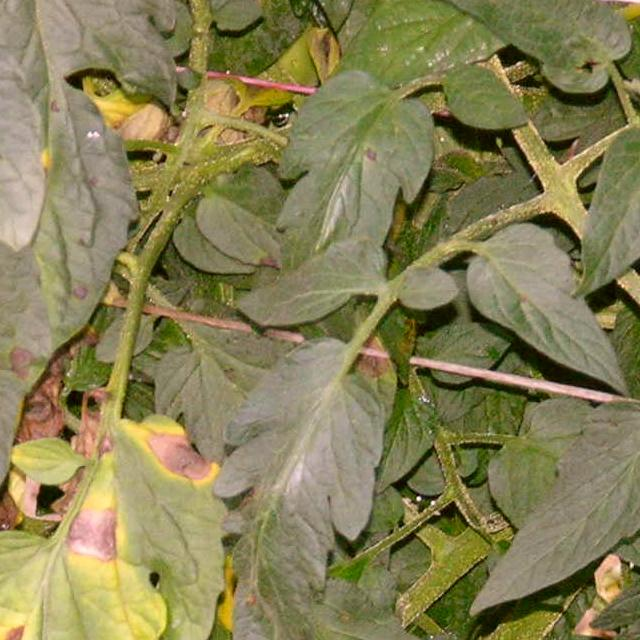Tomato Early blight leaf: (225, 348, 350, 640), (475, 411, 640, 611), (456, 239, 640, 404), (0, 545, 184, 640)
